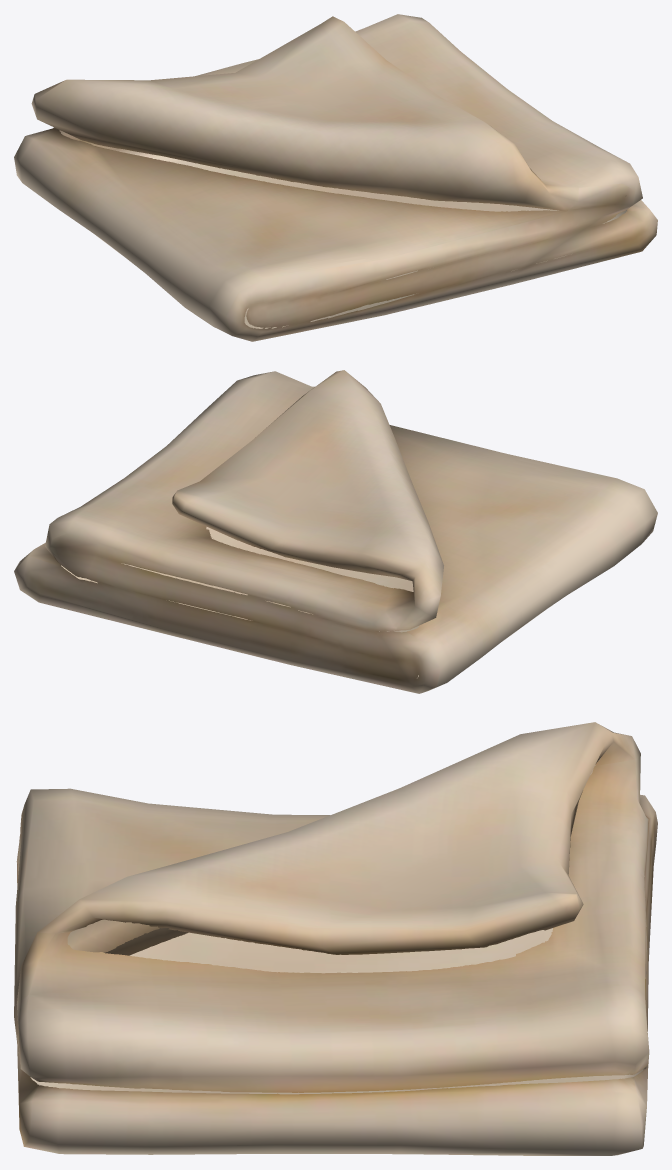
3 views of the same model, one above another, from view 1: azimuth 30°, elevation 25°; view 2: azimuth 150°, elevation 25°; view 3: azimuth 270°, elevation 25° (orthographic). The views are drawn at different scales.
Visible parts, largest first — view 1: SM_Silk_Cloth_01_LOD0; view 2: SM_Silk_Cloth_01_LOD0; view 3: SM_Silk_Cloth_01_LOD0.
Part boxes in pixels (box(x1,y1,x2,y2)): SM_Silk_Cloth_01_LOD0: box(14, 14, 657, 341); SM_Silk_Cloth_01_LOD0: box(14, 370, 657, 693); SM_Silk_Cloth_01_LOD0: box(14, 722, 657, 1155).
Size of the model in its own units: 0.5574 by 0.1525 by 0.4905.
1 material, 1 textured.
